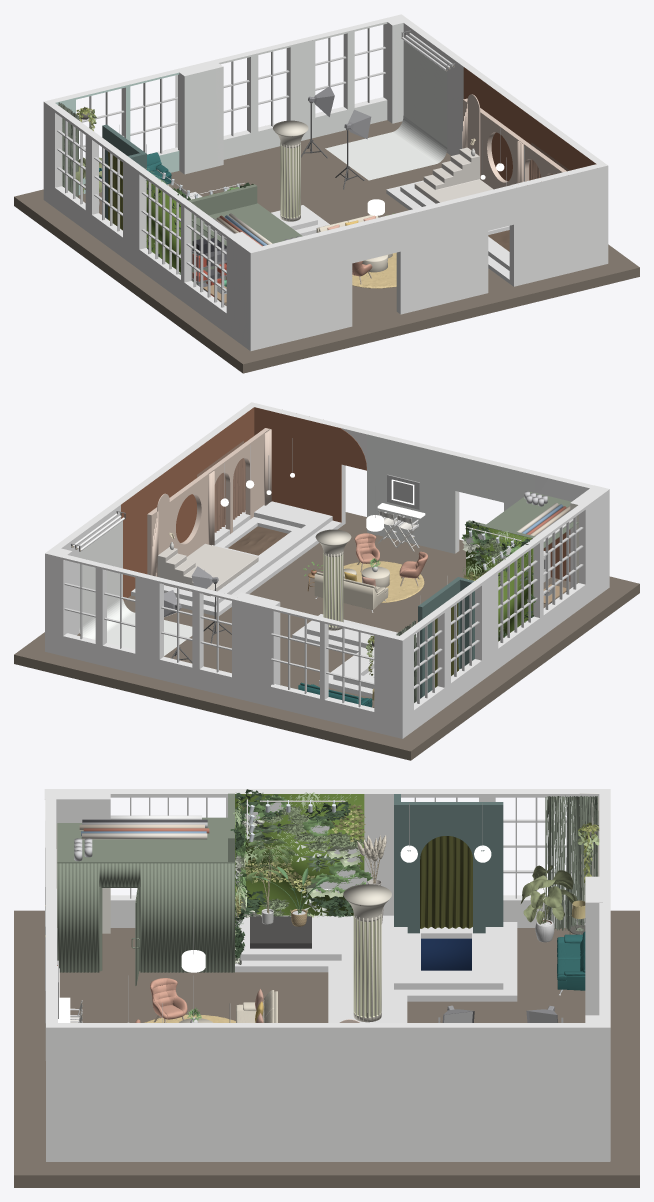
File: etherea-lowres.glb
The picture shows the model from 3 angles, top to bottom: view 1: azimuth 30°, elevation 25°; view 2: azimuth 150°, elevation 25°; view 3: azimuth 270°, elevation 25°; orthographic projection. The views are drawn at different scales.
Parts seen in each view (by area): view 1: Cube, Wall_j0slUw0ESQaHlxl3I12E8Q, Cube.062, Cube.001, Studio+BG_izNCRPySQSW3zbnGWBsGWA, Wall_ryM7yGxfT5SOGcNczaVzYQ, Wall_cM6Y5bnYQj6PNu9bwilUNQ, Wall__qiu8B87SZqla0gIePVqBA, Cube.042, New Desert Wall, Stage stairs and landing, Wall_jZbsUVY6RGCNpejMW_G57A (+25 smaller); view 2: Cube, Wall_j0slUw0ESQaHlxl3I12E8Q, Wall_ryM7yGxfT5SOGcNczaVzYQ, Cube.001, Cube.002, Wall_tC4apbOfSQGxfDBpBDDVlA, New Desert Wall, Studio+BG_izNCRPySQSW3zbnGWBsGWA, Cube.042, New Step 2, Wall_xexoBvuBSq6ge_mbJKC2-Q, Stage stairs and landing (+30 smaller); view 3: Cube.001, Cube, Office cladding, Furniture_BY4Y0_DlRIqQSFE0mL3oGA, Wall_iNl4Zh0ATr2gGKpswnzd6w, Cube.061, Cube.063, Office lid, Furniture_3Rr4xGx_T6Wha_DX7qum0g, Pool arch curtain, Cube.041, Cube.038 (+21 smaller).
Part boxes in pixels (x1,y1,x2,y2): Cube: (14,120,639,373); Wall_j0slUw0ESQaHlxl3I12E8Q: (317,192,488,333); Cube.062: (509,162,607,286); Cube.001: (395,14,608,263); Studio+BG_izNCRPySQSW3zbnGWBsGWA: (325,40,447,180); Wall_ryM7yGxfT5SOGcNczaVzYQ: (211,18,388,159); Wall_cM6Y5bnYQj6PNu9bwilUNQ: (262,233,321,347); Wall__qiu8B87SZqla0gIePVqBA: (178,62,223,174); Cube.042: (55,186,226,333); New Desert Wall: (463,98,566,189); Stage stairs and landing: (414,147,493,203); Wall_jZbsUVY6RGCNpejMW_G57A: (228,236,256,350); Cube: (14,512,639,760); Wall_j0slUw0ESQaHlxl3I12E8Q: (367,431,538,553); Wall_ryM7yGxfT5SOGcNczaVzYQ: (59,555,237,697); Cube.001: (45,405,254,635); Cube.002: (254,407,366,522); Wall_tC4apbOfSQGxfDBpBDDVlA: (267,605,402,738); New Desert Wall: (147,428,269,576); Studio+BG_izNCRPySQSW3zbnGWBsGWA: (79,521,192,655); Cube.042: (414,583,587,730); New Step 2: (164,501,332,606); Wall_xexoBvuBSq6ge_mbJKC2-Q: (235,598,269,705); Stage stairs and landing: (157,543,258,596); Cube.001: (46,1023,609,1161); Cube: (14,910,639,1187); Office cladding: (57,863,234,972); Furniture_BY4Y0_DlRIqQSFE0mL3oGA: (235,789,372,917); Wall_iNl4Zh0ATr2gGKpswnzd6w: (394,802,503,933); Cube.061: (235,915,503,1022); Cube.063: (235,922,517,1022); Office lid: (57,817,234,863); Furniture_3Rr4xGx_T6Wha_DX7qum0g: (545,795,598,930); Pool arch curtain: (420,836,472,928); Cube.041: (110,789,599,797); Cube.038: (349,789,393,900).
Bounding box in the file's own units: 13.55 × 3.64 × 13.55.
